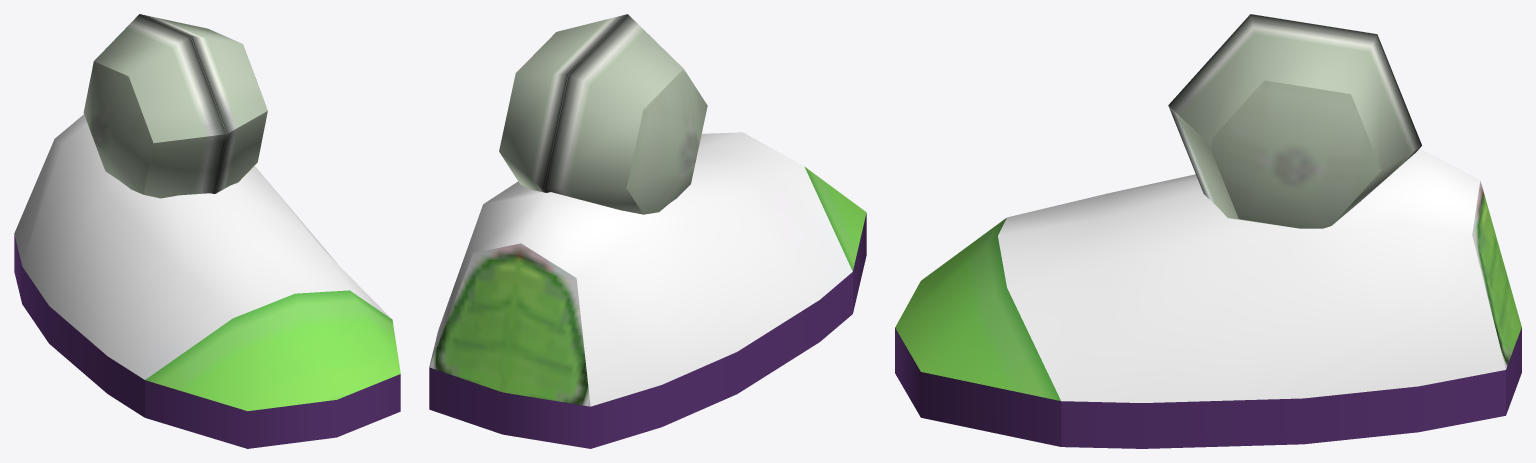
The model's file is buzzlightyLeftFoot.obj.
3 views of the same model, side by side, from view 1: azimuth 30°, elevation 25°; view 2: azimuth 150°, elevation 25°; view 3: azimuth 270°, elevation 25° (orthographic). The views are drawn at different scales.
Visible parts, largest first — view 1: buzzlightyLeftFoot_buzzlighty.004; view 2: buzzlightyLeftFoot_buzzlighty.004; view 3: buzzlightyLeftFoot_buzzlighty.004.
Boxes of the visible parts, <box> form: buzzlightyLeftFoot_buzzlighty.004: <box>14,14,400,448</box>; buzzlightyLeftFoot_buzzlighty.004: <box>429,14,866,448</box>; buzzlightyLeftFoot_buzzlighty.004: <box>895,14,1521,448</box>.
Bounding box in the file's own units: 0.1084 × 0.1195 × 0.1889.
Materials: 1 (1 with a texture image).
